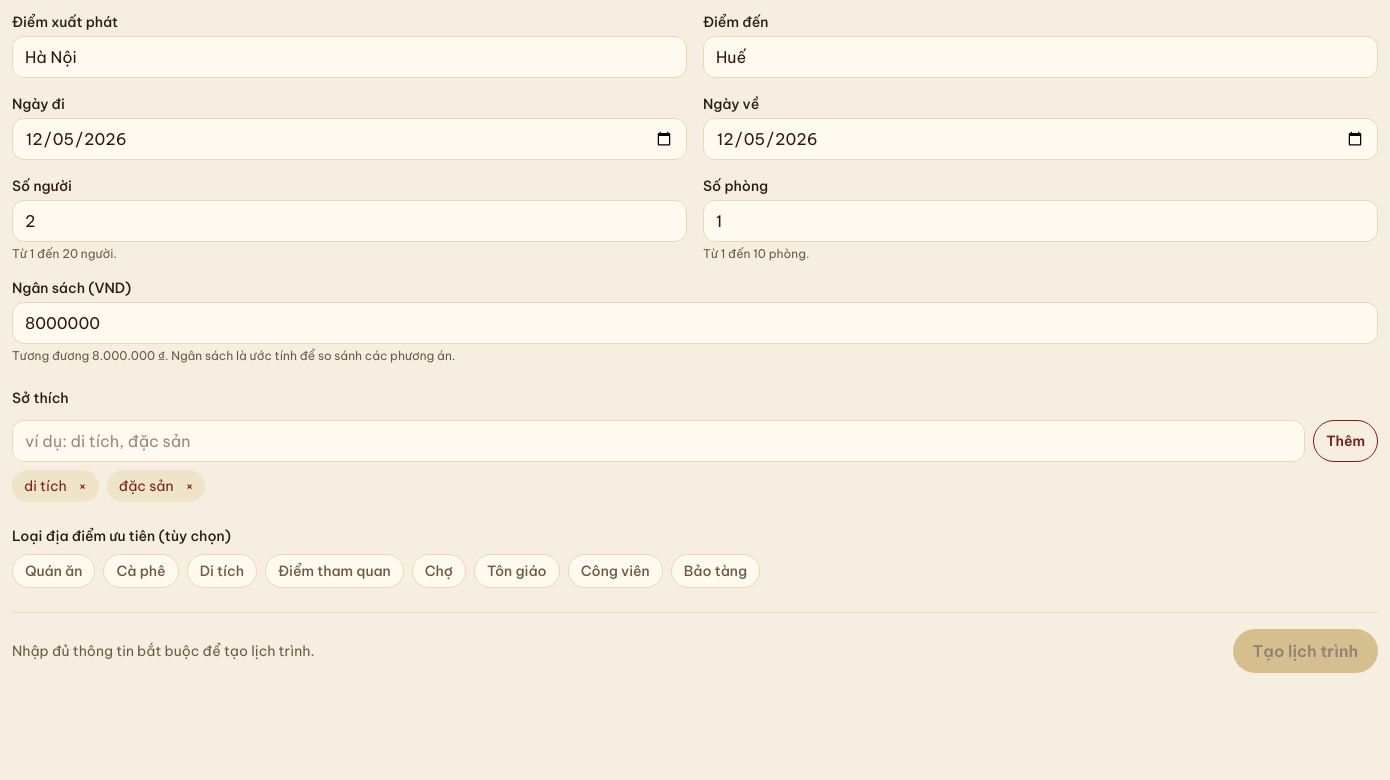
Test: TripRequestForm › rejects a return date that is not after the departure date
The image size is (1390, 780).
Click the date field labelled "Ngày về". click: (1040, 139)
box: [703,118,1378,160]
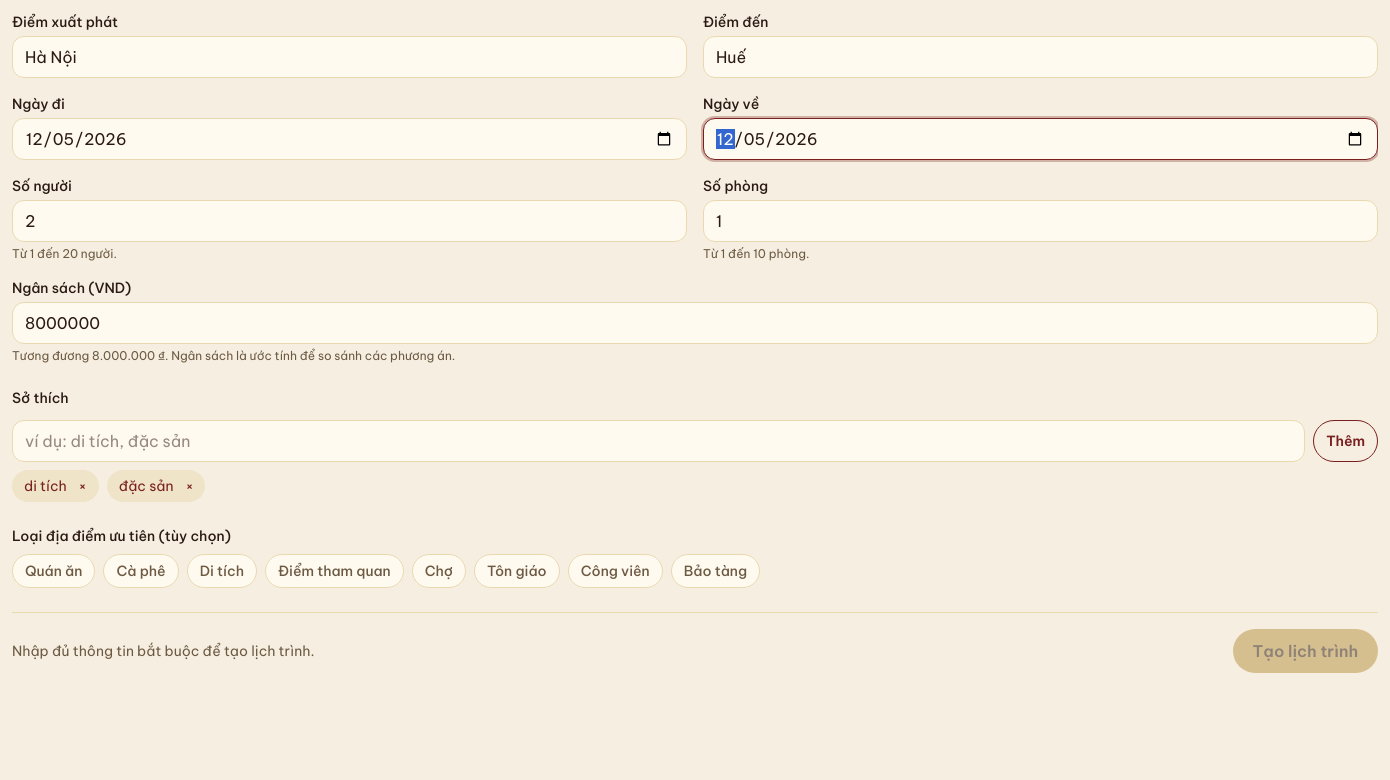
Press Tab
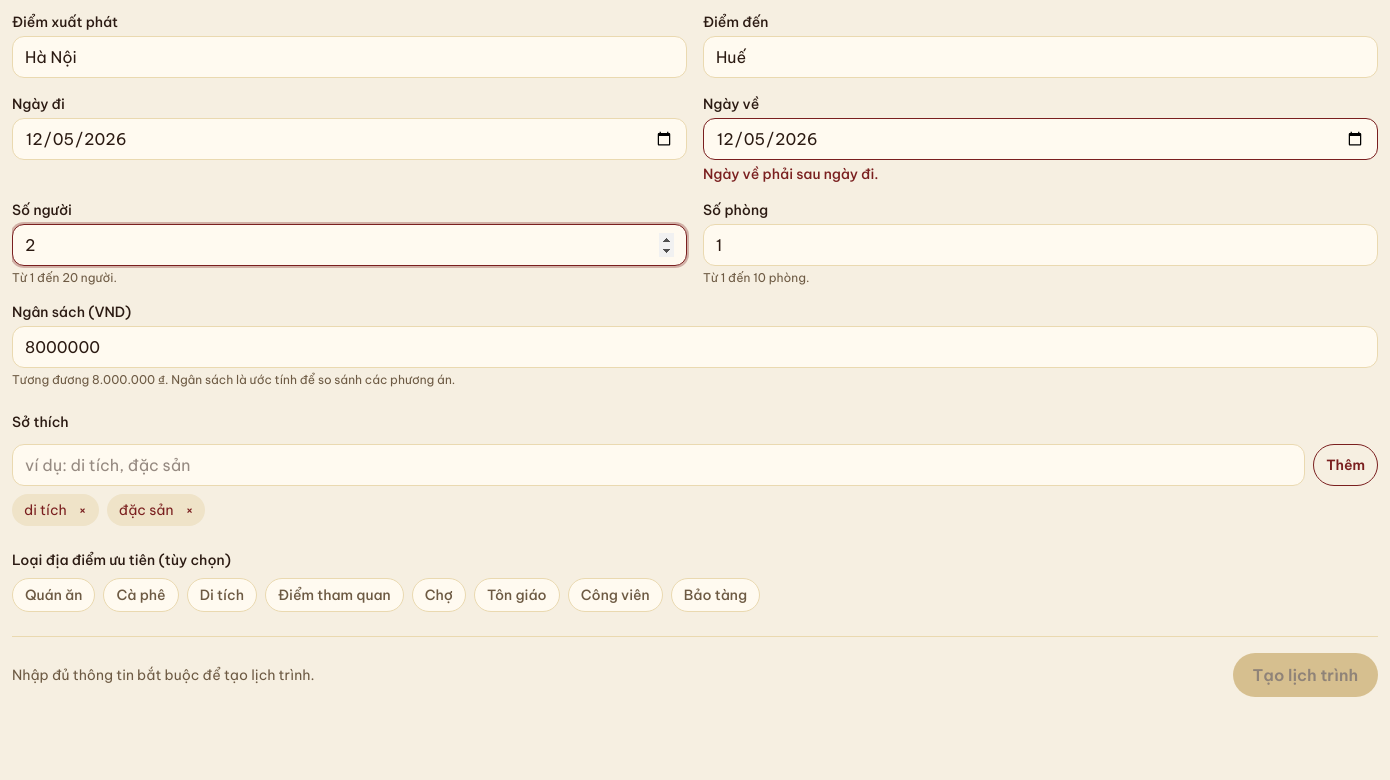
Expected: the button "Tạo lịch trình" is disabled, [1232,653,1378,697]
Expected: the text "Ngày về phải sau ngày đi." is shown, [703,165,878,183]
